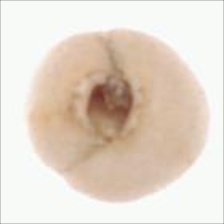L3: (79, 67, 138, 142)
L4: (27, 29, 209, 203)
